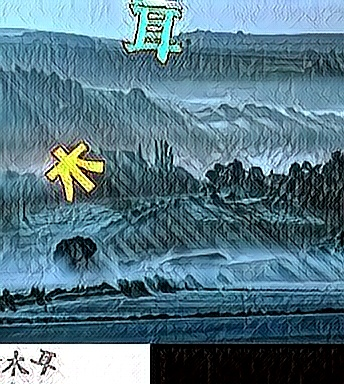B6FA: (120, 4, 189, 68)
C4BE: (40, 139, 109, 203)
